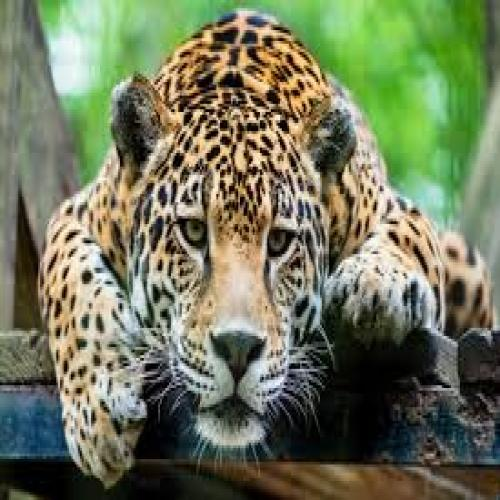jaguar_not-endangered: (46, 17, 430, 453)
